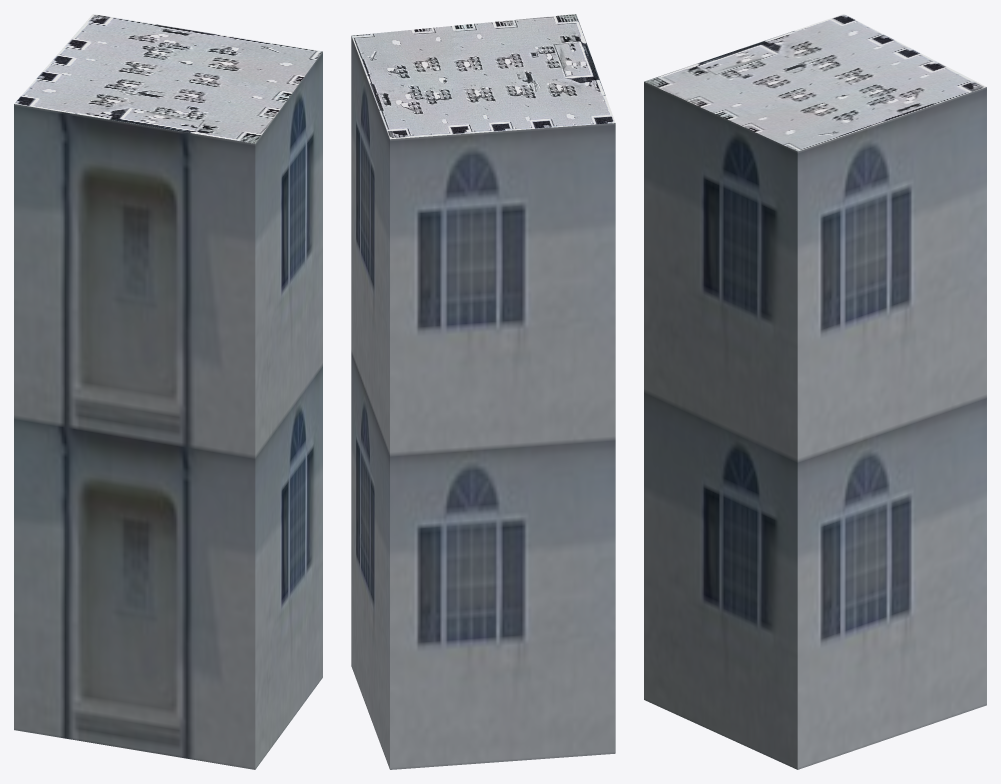
File: ResTex__4162.fbx
The picture shows the model from 3 angles, left to right: view 1: azimuth 30°, elevation 25°; view 2: azimuth 150°, elevation 25°; view 3: azimuth 270°, elevation 25°; orthographic projection. The views are drawn at different scales.
Parts seen in each view (by area): view 1: CityEngineMaterial_17_m, CityEngineMaterial_4_m; view 2: CityEngineMaterial_17_m, CityEngineMaterial_4_m; view 3: CityEngineMaterial_17_m, CityEngineMaterial_4_m.
Boxes of the visible parts, x1,y1,x2,y2 form: CityEngineMaterial_17_m: (14,52,322,769); CityEngineMaterial_4_m: (14,14,322,143); CityEngineMaterial_17_m: (351,36,615,769); CityEngineMaterial_4_m: (351,14,615,139); CityEngineMaterial_17_m: (644,81,986,769); CityEngineMaterial_4_m: (644,14,986,151).
Bounding box in the file's own units: 2.86 × 6 × 3.02.
2 materials, 2 textured.
